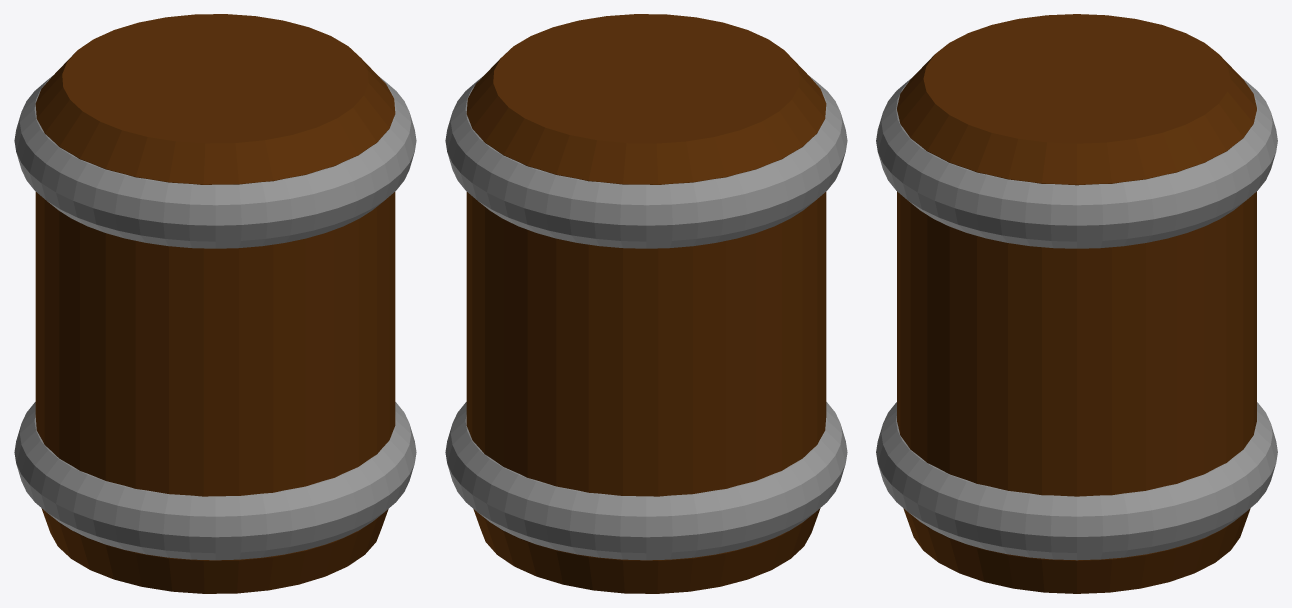
The model's file is Barrel.fbx.
3 views of the same model, side by side, from view 1: azimuth 30°, elevation 25°; view 2: azimuth 150°, elevation 25°; view 3: azimuth 270°, elevation 25° (orthographic).
Parts seen in each view (by area): view 1: Cylinder, Torus, Torus.001; view 2: Cylinder, Torus, Torus.001; view 3: Cylinder, Torus, Torus.001.
Boxes of the visible parts, x1,y1,x2,y2 form: Cylinder: (35,14,395,593); Torus: (14,76,416,248); Torus.001: (14,402,416,560); Cylinder: (466,14,826,593); Torus: (445,76,847,248); Torus.001: (445,402,847,560); Cylinder: (897,14,1256,593); Torus: (876,78,1277,248); Torus.001: (876,402,1277,560).
Bounding box in the file's own units: 223 × 272 × 223.
